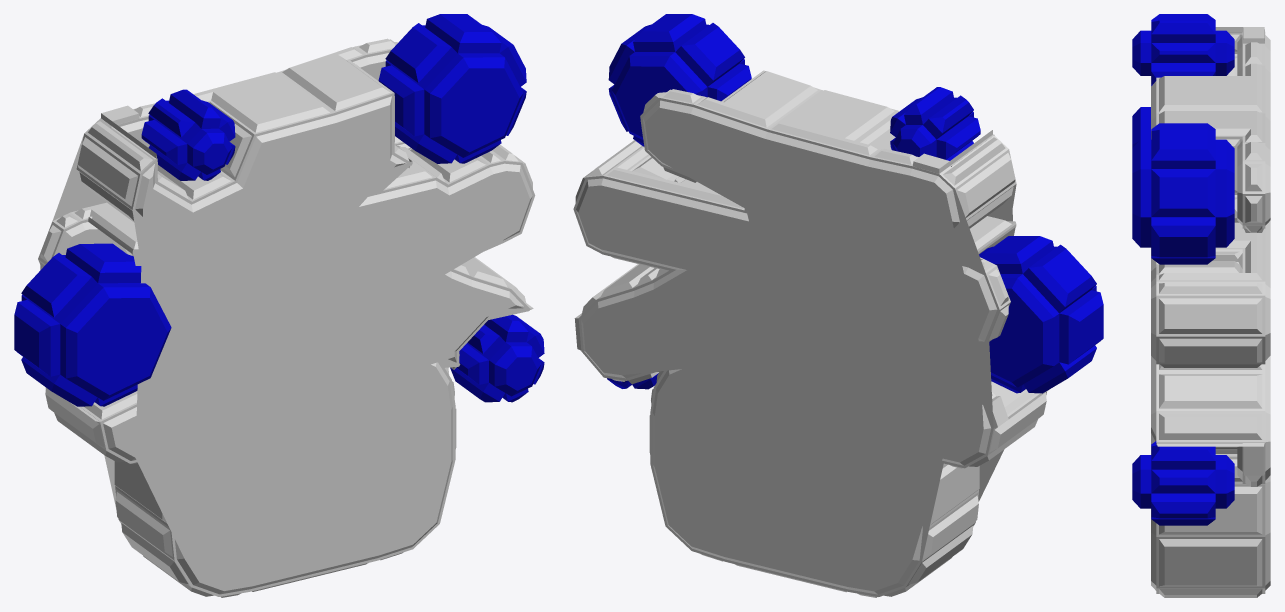
The model's file is Ch_China_香_01.fbx.
The picture shows the model from 3 angles, left to right: view 1: azimuth 30°, elevation 25°; view 2: azimuth 150°, elevation 25°; view 3: azimuth 270°, elevation 25°; orthographic projection. The views are drawn at different scales.
Visible parts, largest first — view 1: sphere1; view 2: sphere1; view 3: sphere1.
Part boxes in pixels (x1,y1,x2,y2): sphere1: (14,14,544,597); sphere1: (573,14,1103,597); sphere1: (1132,14,1270,597).
Size of the model in its own units: 1.04 by 1.01 by 0.2541.
